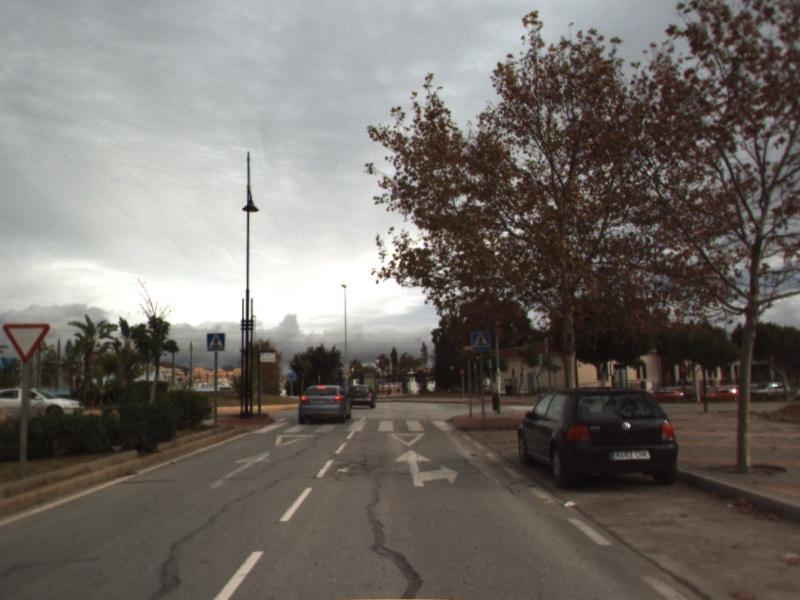STRAIGHT: (207, 449, 272, 490)
STRAIGHT_RIGHT: (391, 448, 460, 489)
